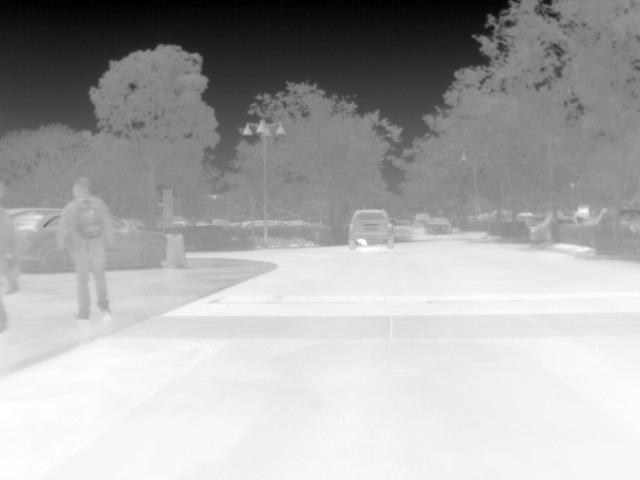car: (13, 210, 75, 272), (106, 215, 170, 266), (349, 207, 395, 250), (601, 207, 640, 255), (425, 216, 454, 234), (414, 211, 437, 226), (557, 215, 581, 223)
person: (51, 175, 116, 321), (1, 182, 22, 332)
